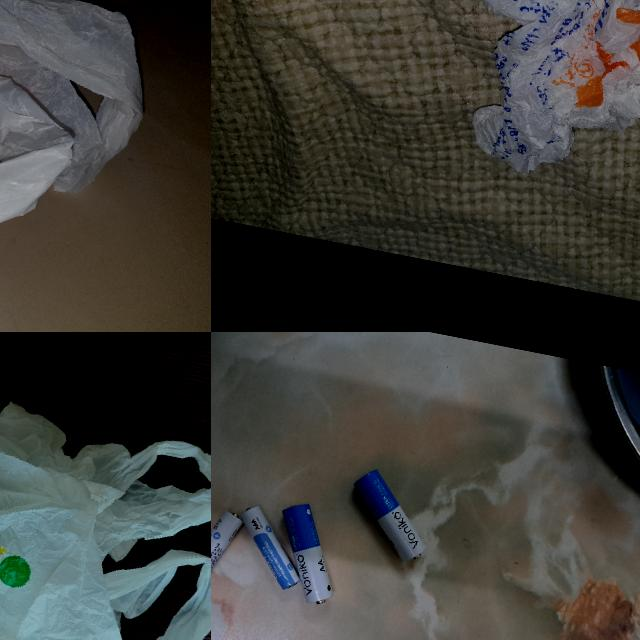bateria: (342, 466, 438, 566), (267, 499, 350, 608), (231, 504, 313, 594), (211, 503, 245, 600)
sacola plástica: (0, 0, 174, 312), (0, 386, 211, 640), (425, 0, 640, 214)
